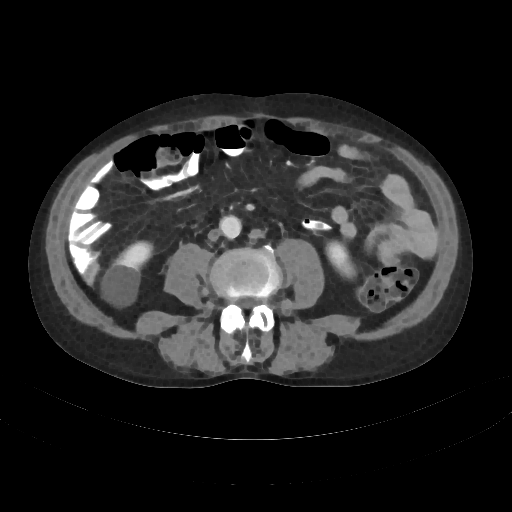Lesion: (99, 265, 142, 311)
